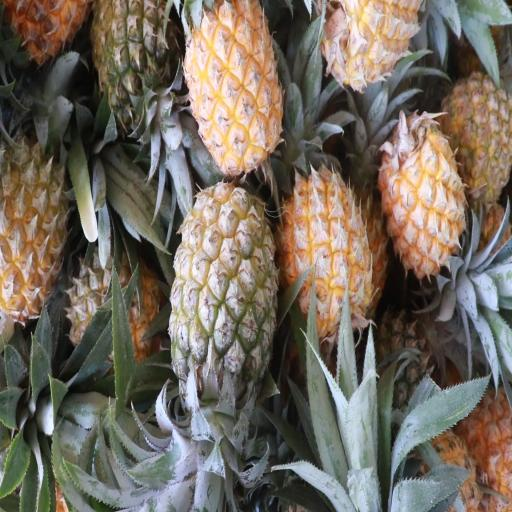------------------------------: (171, 181, 277, 400), (70, 245, 164, 371), (446, 67, 512, 209)
Pineapple - v8 v1: (187, 0, 284, 167), (282, 170, 370, 337), (378, 108, 464, 278), (0, 132, 71, 309)
